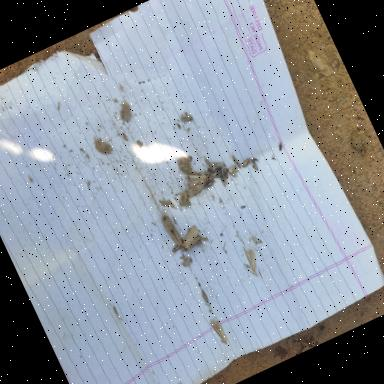pbw: (159, 212, 184, 249), (178, 188, 194, 206), (179, 110, 194, 125), (216, 167, 228, 183), (199, 288, 210, 304), (214, 158, 228, 170), (239, 156, 253, 167), (204, 156, 214, 170), (182, 257, 194, 266), (204, 180, 214, 188)
